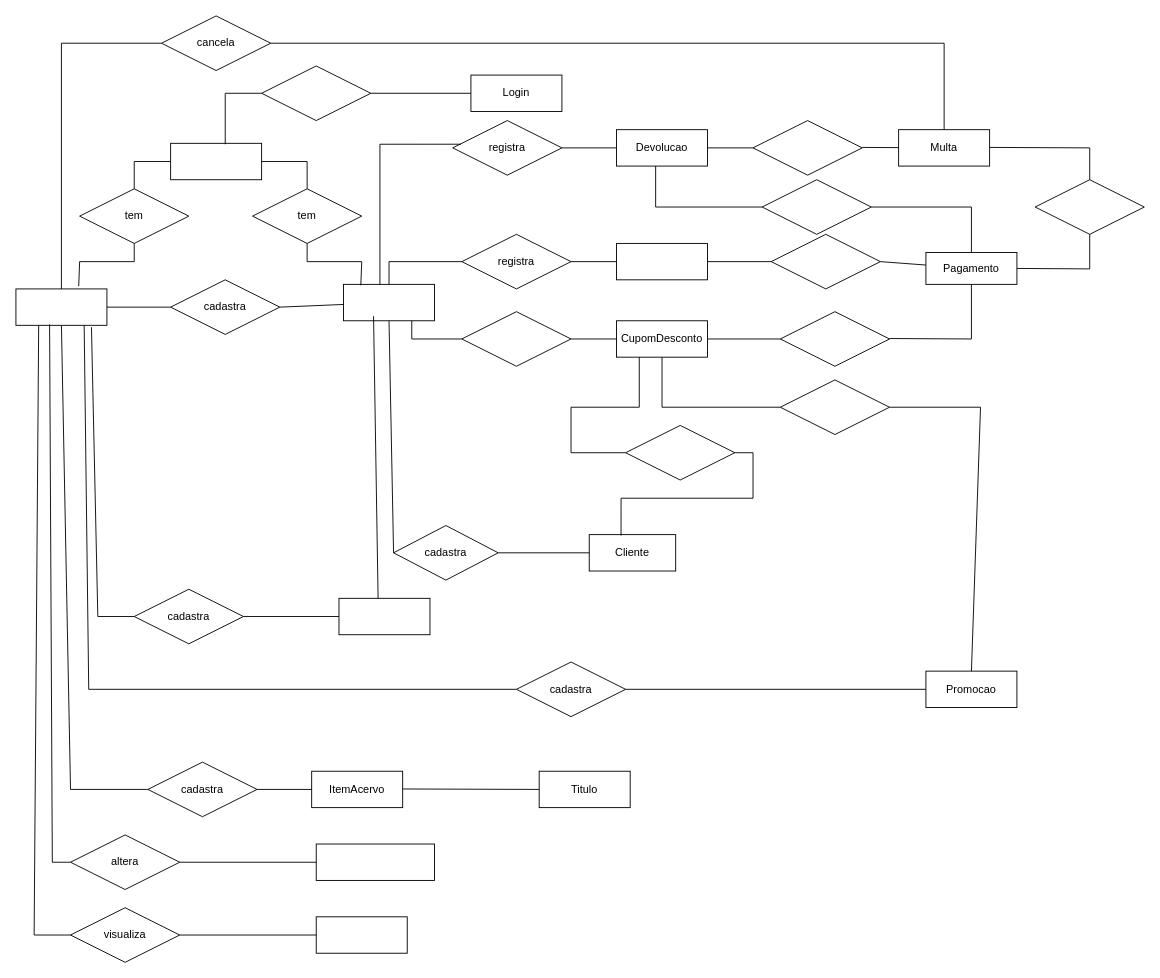
This 1160x978 diagram has some shape labels left out. Here are the shapes that lost their labels. From the top down, the centre of each, then its label:
At pixel 316 93: "faz".
At pixel 216 161: "Usuario".
At pixel 1089 206: "aumenta".
At pixel 662 261: "Locacao".
At pixel 61 306: "Gerente".
At pixel 389 302: "Funcionario".
At pixel 516 338: "aplica".
At pixel 834 338: "deduz".
At pixel 384 616: "MetaVenda".
At pixel 375 861: "ParametroSistema".
At pixel 361 934: "Log".
